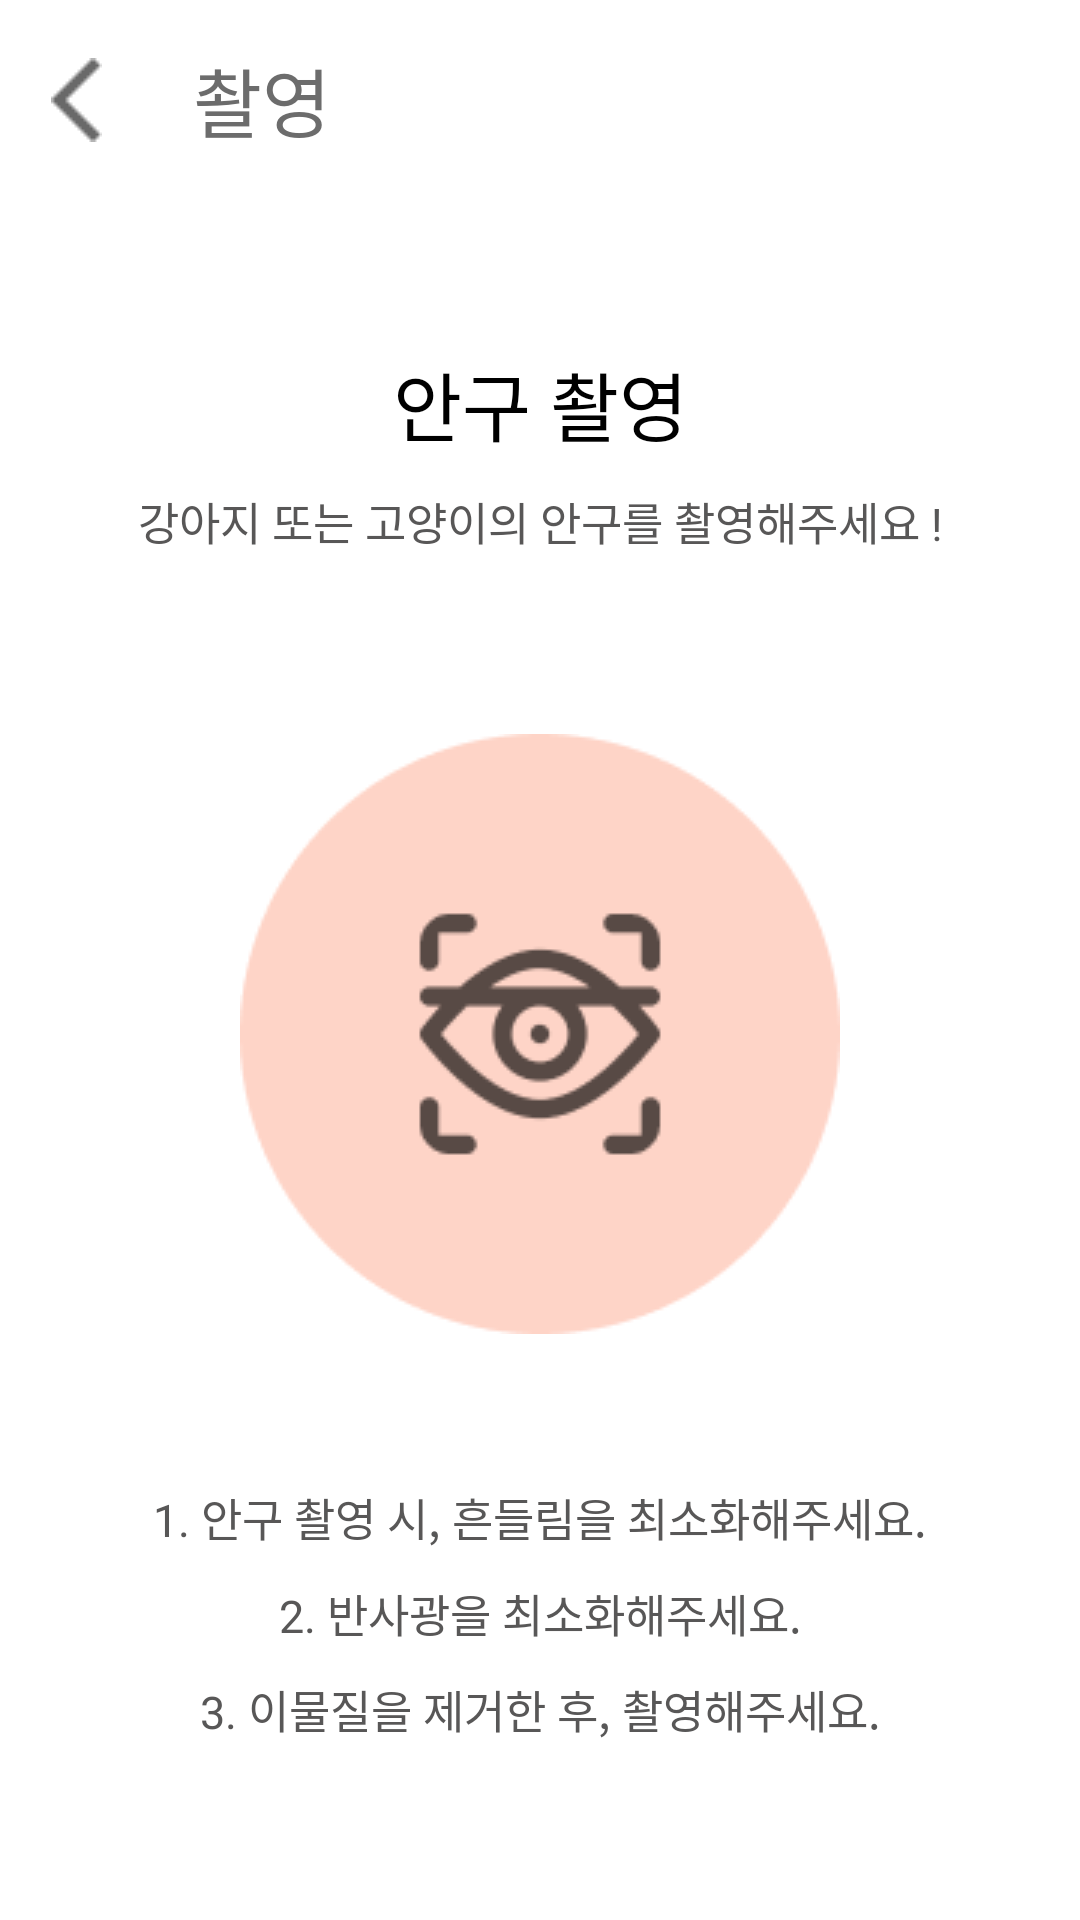

Where icons sit on this 1080px x 1920px app screen, as {"left": x1, "top": y1, "right": x2, "bottom": y2}:
back: {"left": 51, "top": 58, "right": 102, "bottom": 142}
